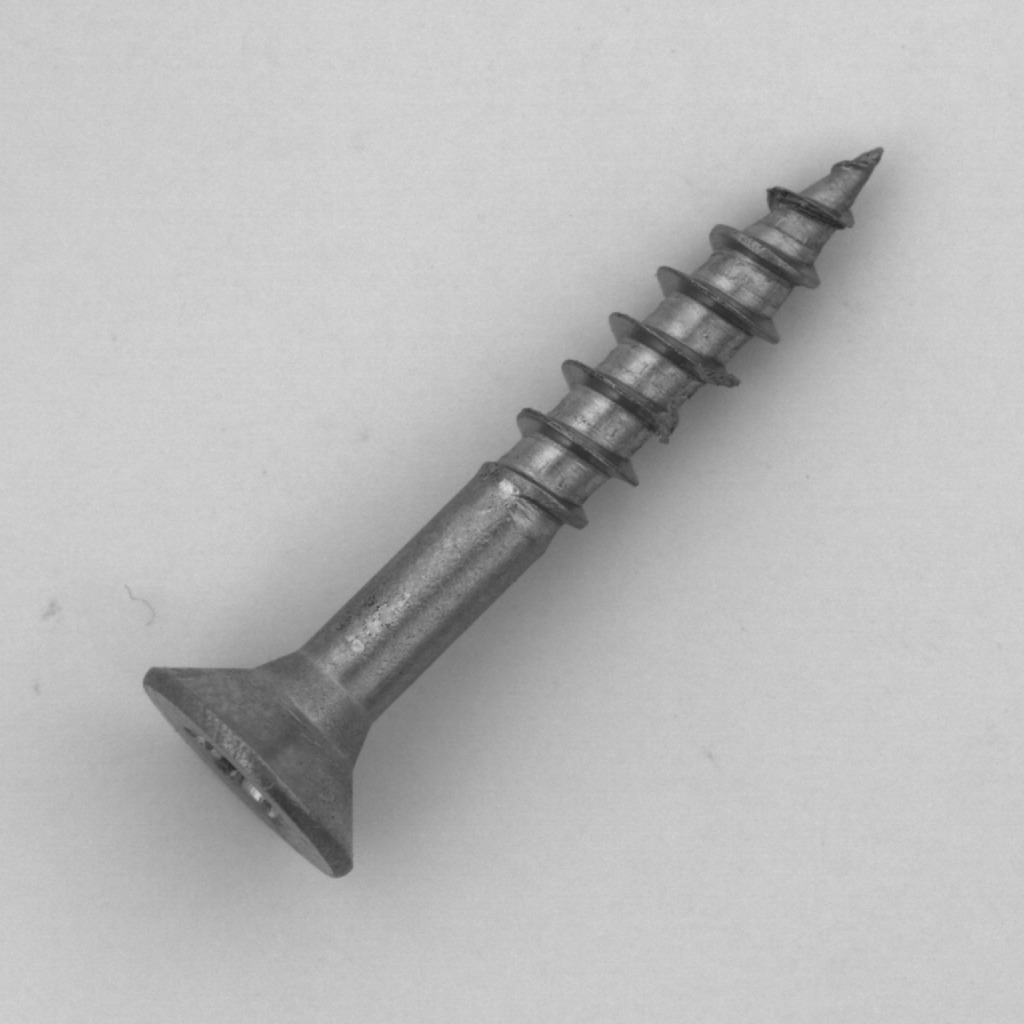thread_side: (600, 313, 807, 520)
